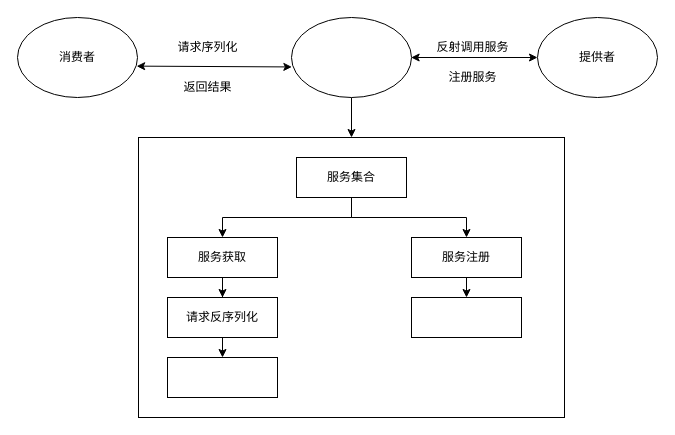
The diagram is 675 pixels wide and 435 high, and some of its shapes have lost their labels. Each missing label, with the centre of its shape:
rpc: (x=351, y=57)
添加服务名/类: (x=466, y=317)
集合获取类，反射获取方法，执行方法: (x=222, y=377)
